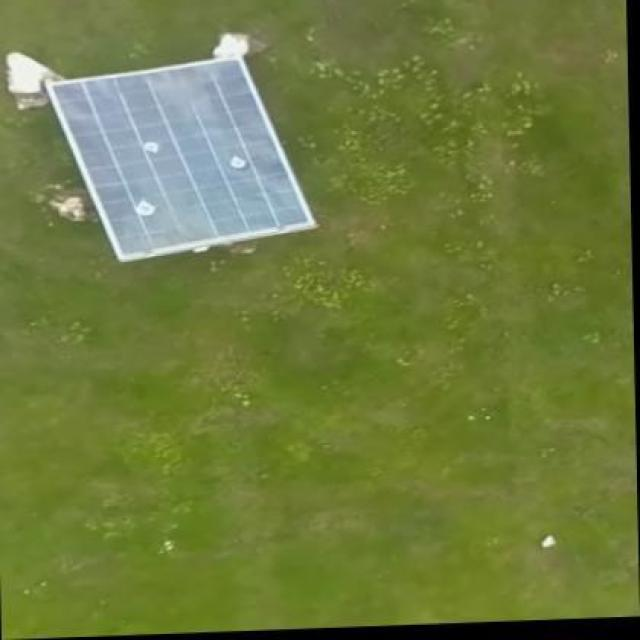soiled: (42, 57, 318, 266)
